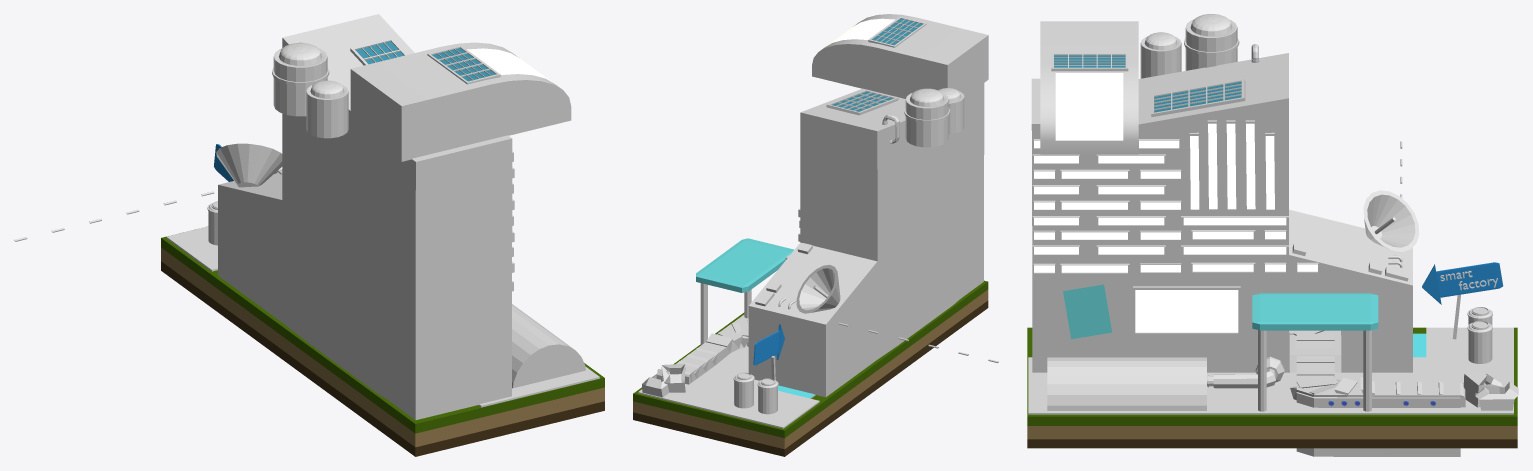
Rendered from SmartFactoryPrefab.fbx.
The picture shows the model from 3 angles, left to right: view 1: azimuth 30°, elevation 25°; view 2: azimuth 150°, elevation 25°; view 3: azimuth 270°, elevation 25°; orthographic projection. The views are drawn at different scales.
Parts seen in each view (by area): view 1: smart factory, Cube.118, factory ground.003, smart farm, Cylinder.023, factory ground.005, Cylinder.022, Cylinder.024, Cube.119, Cube.127; view 2: smart factory, factory ground.003, Cube.118, factory ground.005, Cube.121, Cylinder.023, smart factory factor, Cylinder.024, Cube.127, Cube.119, Cylinder.022, smart factory sign (+5 smaller); view 3: smart factory, factory ground.003, Cube.118, factory ground.005, smart farm, Plane.071, Cube.121, smart factory factor, Plane.073, Cylinder.024, Cylinder.023, Cube.127 (+29 smaller).
Boxes of the visible parts, bbox=[...] form: smart factory: bbox=[218, 14, 512, 420]; Cube.118: bbox=[350, 42, 571, 161]; factory ground.003: bbox=[161, 226, 604, 456]; smart farm: bbox=[512, 304, 585, 388]; Cylinder.023: bbox=[272, 43, 329, 116]; factory ground.005: bbox=[166, 226, 599, 407]; Cylinder.022: bbox=[306, 80, 348, 138]; Cylinder.024: bbox=[216, 143, 282, 187]; Cube.119: bbox=[427, 45, 500, 84]; Cube.127: bbox=[350, 38, 407, 65]; smart factory: bbox=[748, 83, 984, 397]; factory ground.003: bbox=[633, 280, 988, 456]; Cube.118: bbox=[812, 14, 988, 98]; factory ground.005: bbox=[638, 315, 819, 428]; Cube.121: bbox=[696, 238, 793, 292]; Cylinder.023: bbox=[904, 88, 950, 147]; smart factory factor: bbox=[676, 320, 748, 384]; Cylinder.024: bbox=[796, 264, 840, 313]; Cube.127: bbox=[826, 89, 898, 115]; Cube.119: bbox=[868, 16, 926, 47]; Cylinder.022: bbox=[938, 88, 964, 134]; smart factory sign: bbox=[753, 324, 784, 365]; smart factory: bbox=[1031, 53, 1412, 372]; factory ground.003: bbox=[1027, 327, 1517, 448]; Cube.118: bbox=[1040, 21, 1138, 154]; factory ground.005: bbox=[1028, 327, 1513, 414]; smart farm: bbox=[1047, 357, 1206, 410]; Plane.071: bbox=[1133, 286, 1240, 335]; Cube.121: bbox=[1252, 293, 1378, 330]; smart factory factor: bbox=[1289, 330, 1465, 407]; Plane.073: bbox=[1296, 392, 1460, 456]; Cylinder.024: bbox=[1363, 190, 1419, 251]; Cylinder.023: bbox=[1184, 14, 1239, 70]; Cube.127: bbox=[1151, 79, 1245, 116].
Bounding box in the file's own units: 409 × 361 × 456.
